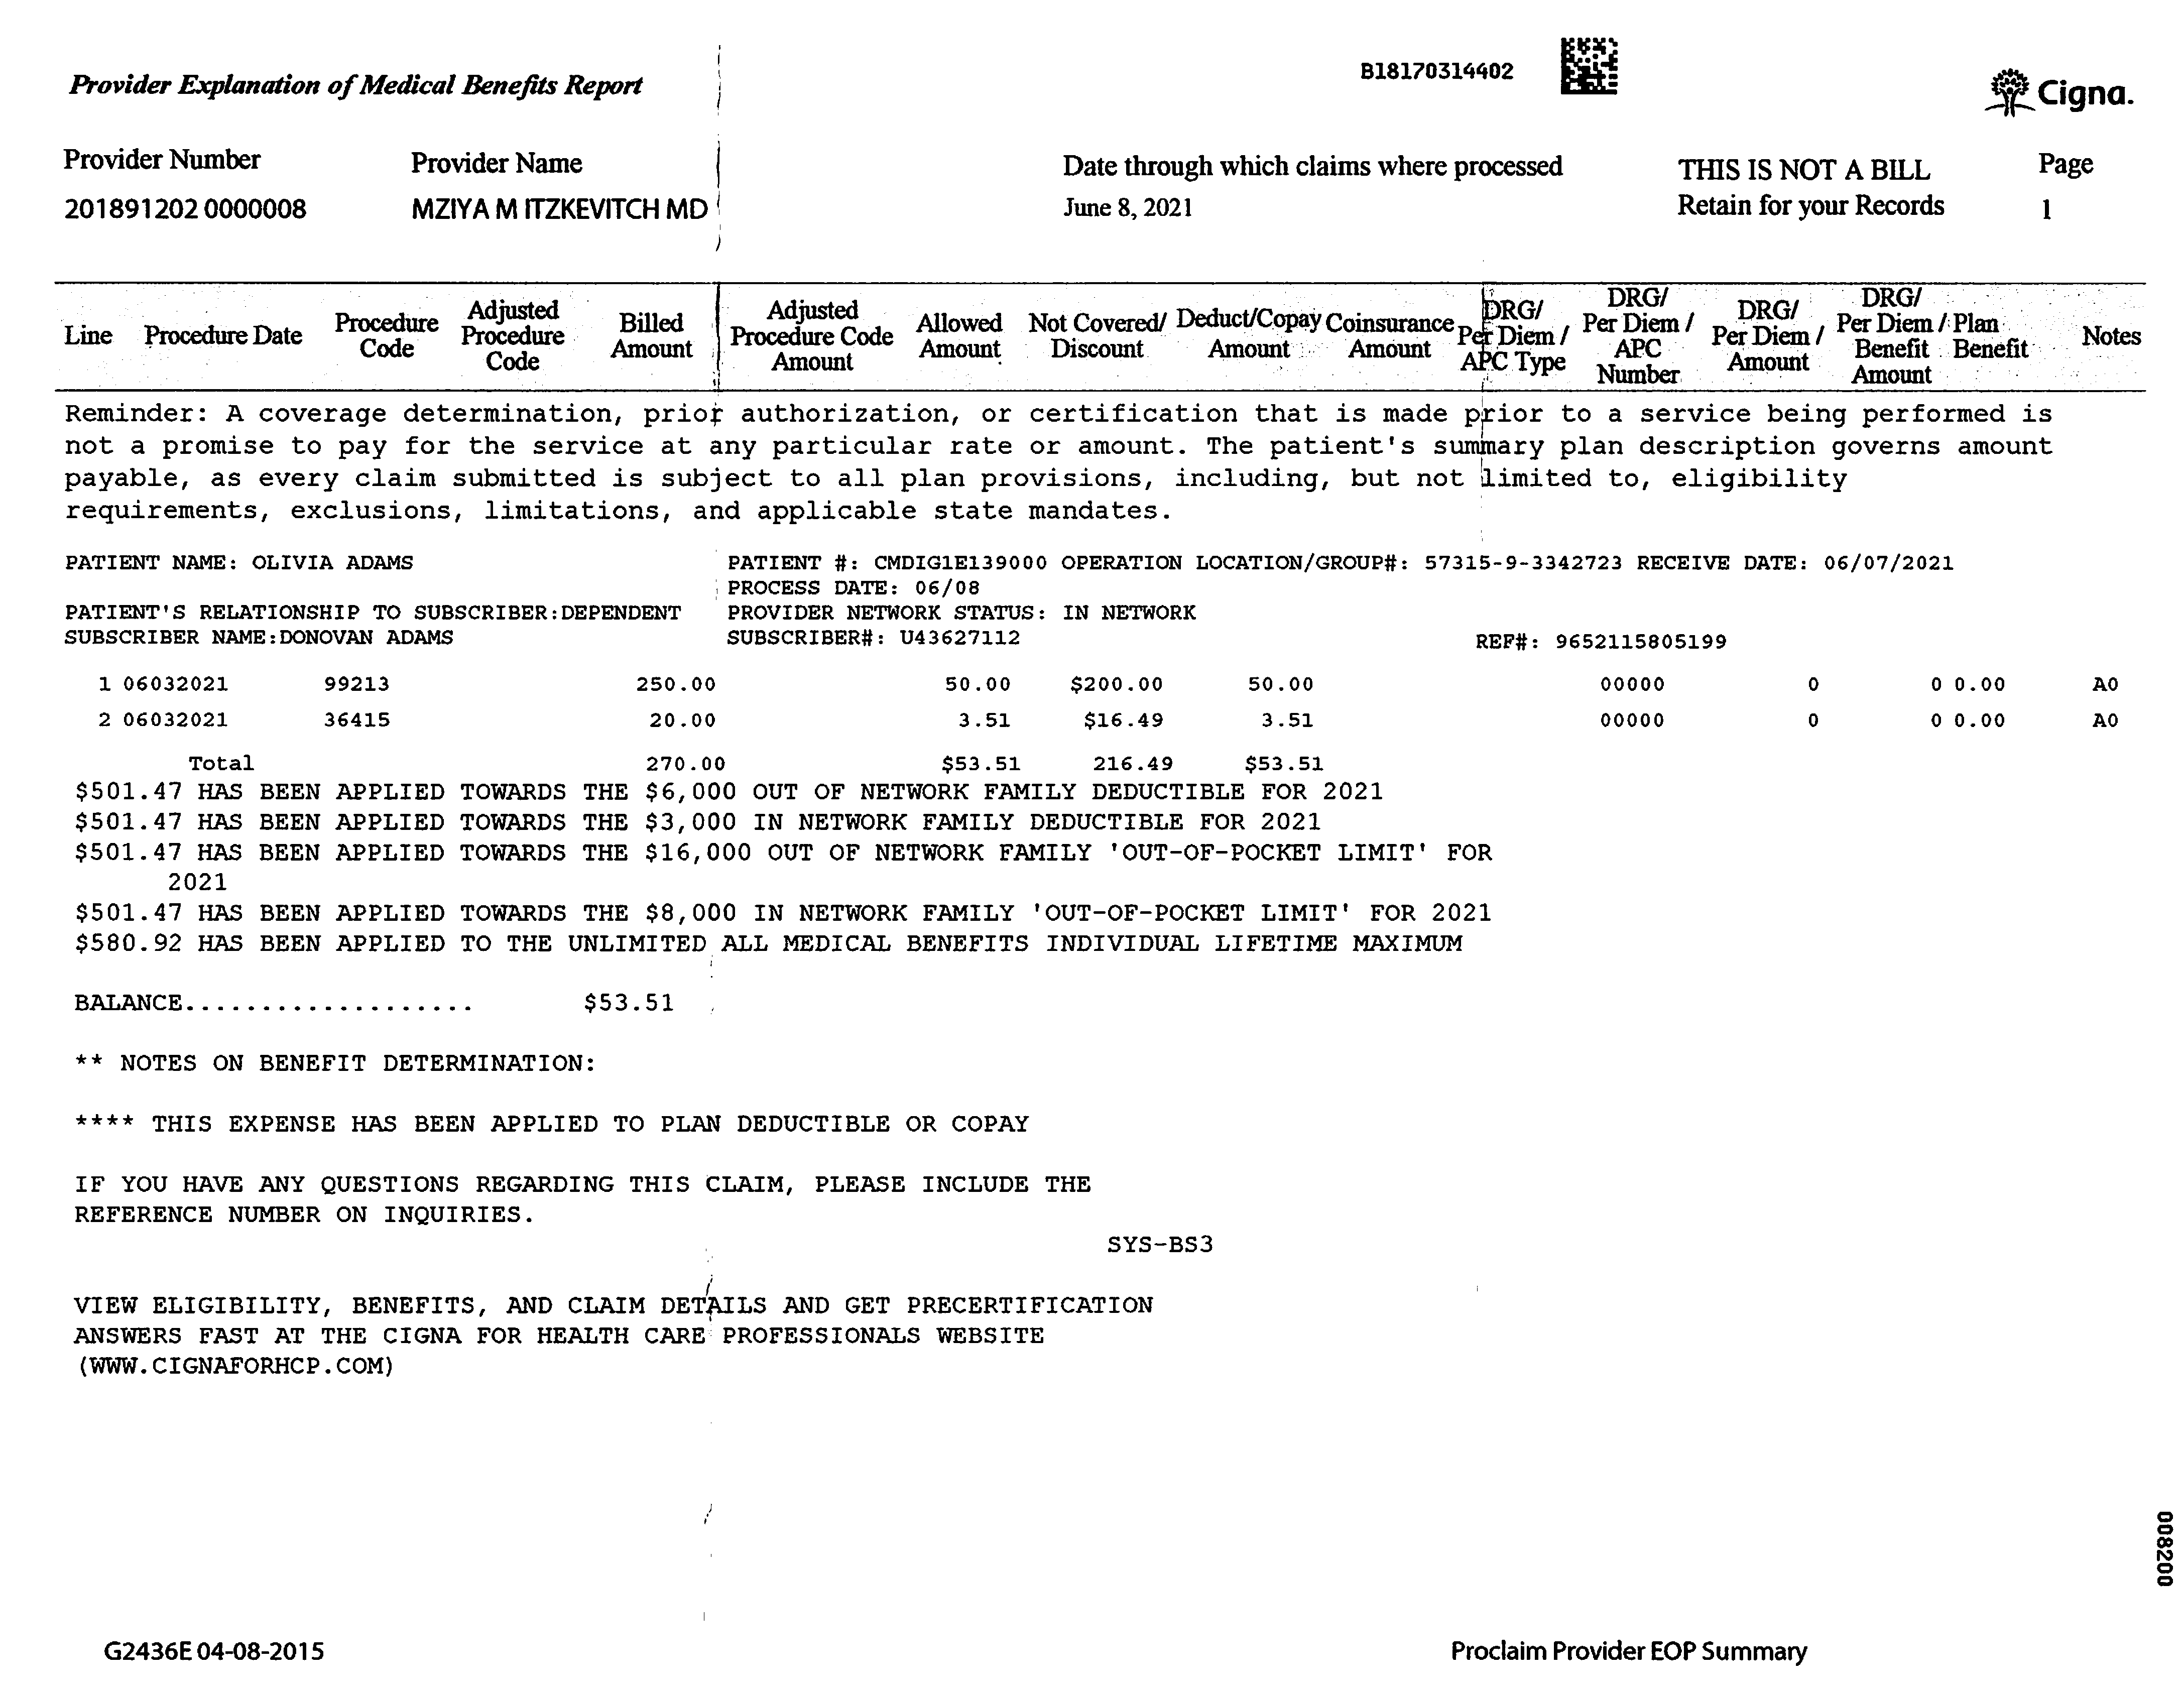data: (48, 131, 782, 246)
